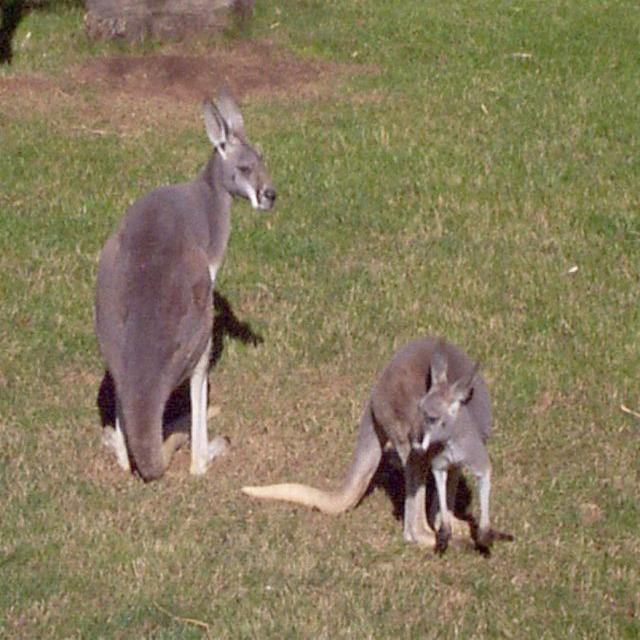kangaroo: (88, 91, 292, 476), (354, 331, 501, 559)
